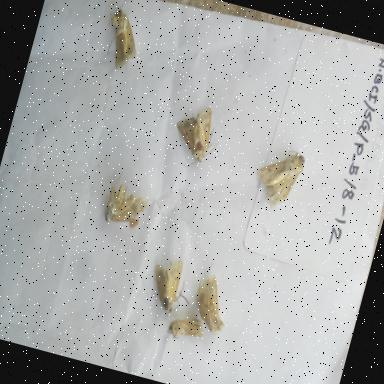abw: (162, 96, 230, 180), (244, 139, 312, 218), (90, 0, 153, 78), (94, 162, 160, 236), (140, 247, 202, 321), (184, 266, 240, 340), (160, 307, 212, 354)
